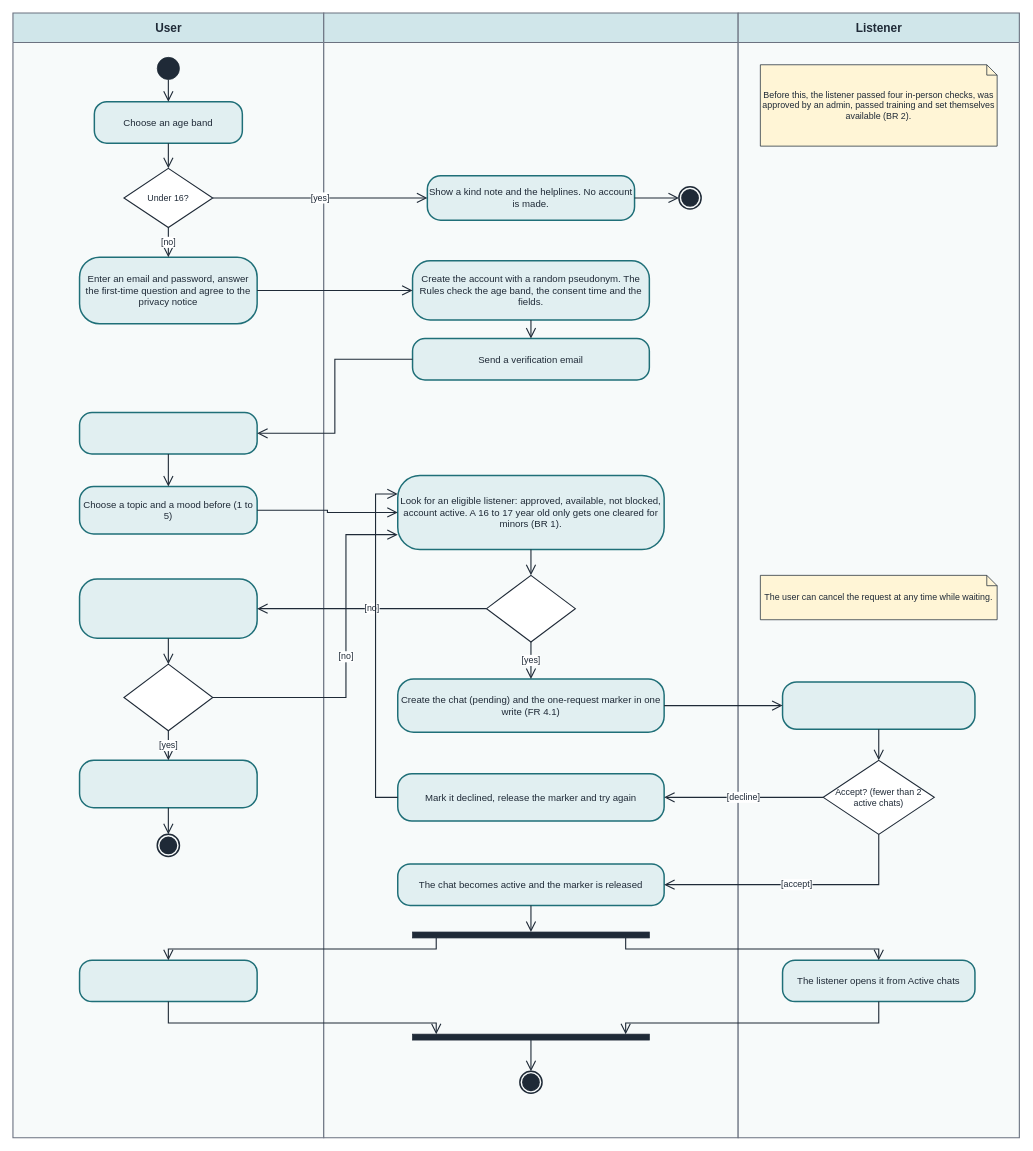
This 1033x1151 diagram has some shape labels left out. The shapes that lost their labels are listed below. From the top down, each one's box as (x1, y1, x2, y2) in pixels, then its label:
(78, 411, 258, 454): Dashboard: optional mood check-in
(323, 12, 738, 1138): System (the browser and the Security Rules)
(78, 578, 258, 639): See the wait status and self-help tips. The search tries again every 15 seconds.
(486, 574, 576, 642): Listener found?
(123, 663, 213, 731): Waited 10 minutes?
(781, 681, 975, 730): See the request and accept or decline it
(78, 759, 258, 808): Stop: nobody is free right now. Try again later.
(78, 959, 258, 1002): The chat page opens for the user
